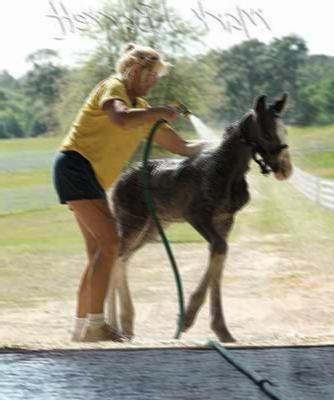horse: (100, 92, 292, 343)
